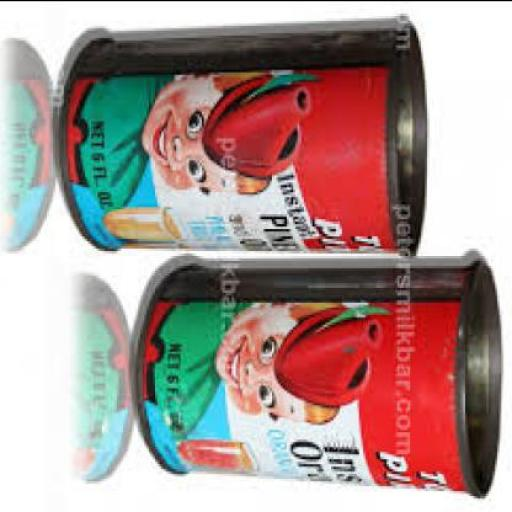metal: (140, 255, 506, 495), (60, 15, 431, 250)
